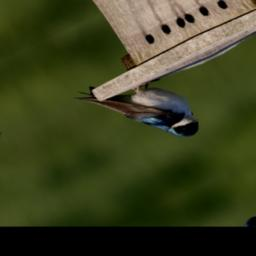Swallow: (68, 51, 209, 170)
